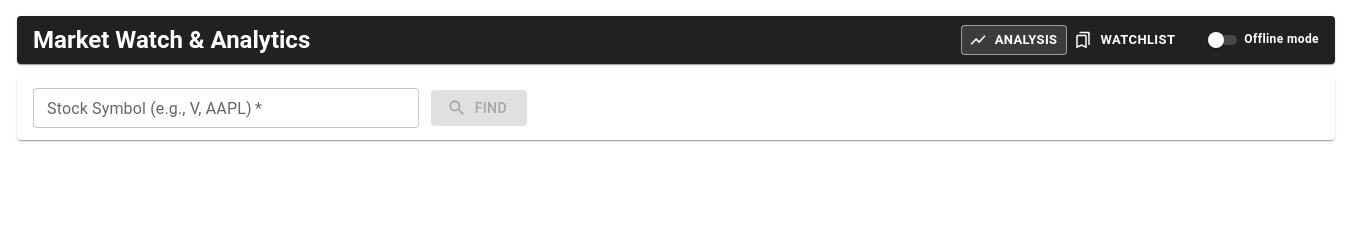
Test: App — header: views and the offline toggle › the Watchlist view shows only the watchlists — no lookup form, no results
Click the switch labelled "Offline mode" at [1262, 40], box [1204,28,1319,52]
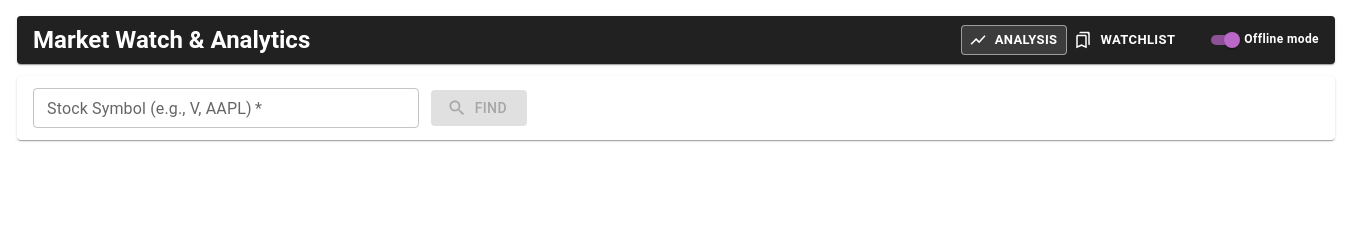
Click the button "Watchlist" at [1126, 40], box [1071,25,1180,55]
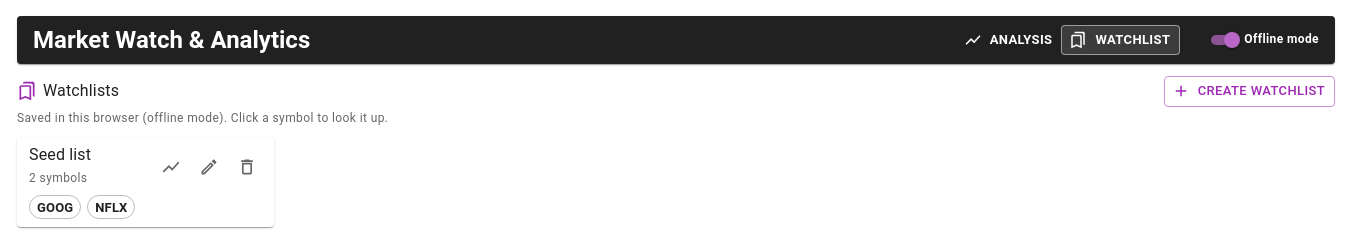
Expected: the element named "Watchlist Seed list" is shown, [17,137,274,228]
Expected: the element "Watchlist" shows "Saved in this browser (offline mode).", [17,111,227,125]
Expected: the form with test id "lookup-form" is gone
Click the button "Analysis" at [1009, 40], box [961,25,1058,55]
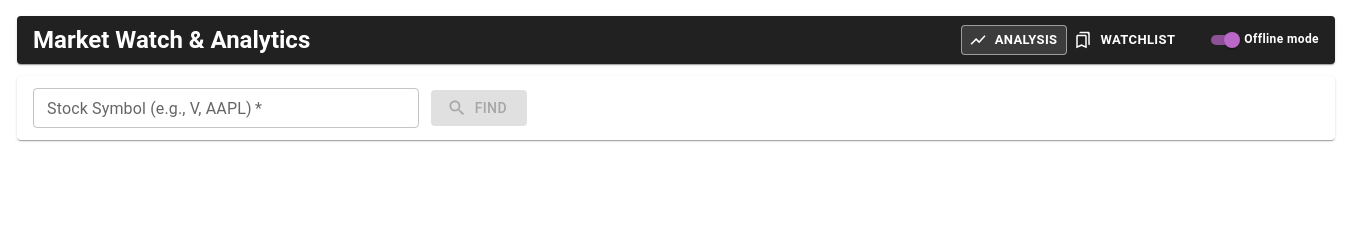
Expected: the form with test id "lookup-form" is shown, [33,83,527,128]
